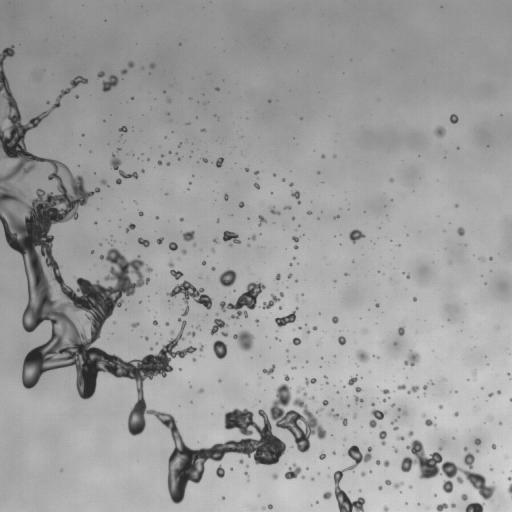droplet: (323, 445, 370, 511), (167, 280, 212, 316), (110, 154, 138, 184), (233, 330, 254, 351), (369, 408, 386, 427), (210, 316, 227, 334), (219, 269, 236, 286), (102, 75, 118, 91), (404, 350, 420, 366), (284, 464, 301, 479), (213, 340, 227, 358), (223, 231, 240, 243), (349, 229, 364, 242), (356, 350, 369, 362), (434, 126, 445, 137), (183, 231, 194, 241), (138, 237, 149, 246), (216, 465, 224, 477), (425, 419, 436, 427), (126, 223, 135, 232), (348, 376, 357, 385), (450, 114, 458, 123), (338, 336, 346, 345), (216, 157, 223, 167), (259, 215, 266, 225), (271, 206, 279, 214), (169, 242, 177, 250), (292, 337, 300, 345), (393, 482, 403, 488), (457, 227, 464, 235), (398, 326, 404, 335), (354, 396, 363, 402), (156, 237, 163, 244), (382, 460, 389, 467), (119, 126, 127, 132), (97, 71, 104, 77), (292, 236, 299, 242), (332, 316, 338, 323), (284, 374, 290, 381), (474, 438, 480, 445), (319, 452, 325, 459), (187, 331, 195, 336), (397, 384, 405, 389), (101, 179, 107, 185), (146, 266, 152, 272), (461, 494, 467, 500), (275, 273, 280, 280), (131, 322, 138, 327), (221, 331, 228, 336), (382, 389, 389, 394), (128, 61, 133, 67), (121, 69, 127, 74), (355, 387, 361, 392), (385, 480, 391, 485), (397, 436, 404, 440), (254, 183, 259, 188), (239, 202, 244, 207), (250, 235, 255, 240), (323, 400, 328, 405), (391, 419, 396, 424), (408, 431, 413, 436), (272, 474, 277, 479), (201, 158, 207, 162), (224, 194, 228, 200), (305, 329, 309, 335), (199, 345, 203, 351), (150, 63, 154, 68), (182, 249, 186, 254), (153, 320, 157, 325), (312, 326, 317, 330), (472, 371, 476, 376), (423, 385, 427, 390), (488, 392, 493, 396), (376, 460, 380, 465), (361, 471, 365, 476), (383, 507, 388, 511), (284, 206, 290, 209), (139, 211, 143, 215), (294, 245, 298, 249), (479, 257, 483, 261), (375, 303, 379, 307), (296, 388, 300, 392), (382, 398, 386, 402), (438, 405, 442, 409), (454, 412, 458, 416), (352, 414, 356, 418), (393, 426, 397, 430), (491, 444, 495, 448), (239, 459, 243, 463), (378, 486, 382, 490), (268, 504, 272, 508), (158, 160, 161, 165), (213, 239, 218, 242), (288, 273, 291, 278), (255, 319, 258, 324), (254, 171, 258, 174), (307, 211, 311, 214), (334, 215, 338, 218), (406, 274, 409, 278), (413, 297, 416, 301), (165, 322, 169, 325), (292, 366, 296, 369), (199, 389, 203, 392), (497, 390, 500, 394), (303, 392, 306, 396), (394, 448, 397, 452), (301, 475, 304, 479), (215, 87, 218, 90), (178, 143, 181, 146), (321, 155, 324, 158), (245, 168, 248, 171), (390, 178, 393, 181), (290, 183, 293, 186), (180, 218, 183, 221), (211, 248, 214, 251), (202, 261, 205, 264), (170, 331, 173, 334), (192, 358, 195, 361), (430, 381, 433, 384), (310, 396, 313, 399), (391, 403, 394, 406), (499, 422, 502, 425), (244, 472, 247, 475), (311, 477, 313, 481), (201, 129, 204, 131), (167, 162, 169, 165), (455, 204, 457, 207), (156, 216, 158, 219), (217, 219, 219, 222), (489, 257, 492, 259), (289, 263, 292, 265), (212, 267, 214, 270), (279, 306, 281, 309), (197, 326, 199, 329), (299, 326, 301, 329), (145, 337, 148, 339), (286, 349, 288, 352), (371, 403, 374, 405), (409, 485, 411, 488), (76, 95, 78, 97), (168, 99, 170, 101), (292, 217, 294, 219), (345, 273, 347, 275), (295, 279, 297, 281), (155, 342, 157, 344), (150, 348, 152, 350), (287, 360, 289, 362), (324, 375, 326, 377), (326, 382, 328, 384), (422, 414, 424, 416)
ligament: (0, 48, 322, 503), (400, 439, 495, 500), (219, 282, 265, 318), (275, 308, 297, 327), (262, 293, 283, 309), (329, 409, 347, 425), (168, 262, 182, 279), (465, 502, 484, 511), (436, 503, 455, 511), (291, 190, 300, 203), (262, 365, 275, 374), (379, 430, 386, 445), (407, 385, 419, 393), (507, 477, 511, 496), (305, 378, 316, 384), (316, 408, 323, 413), (510, 398, 511, 401)
